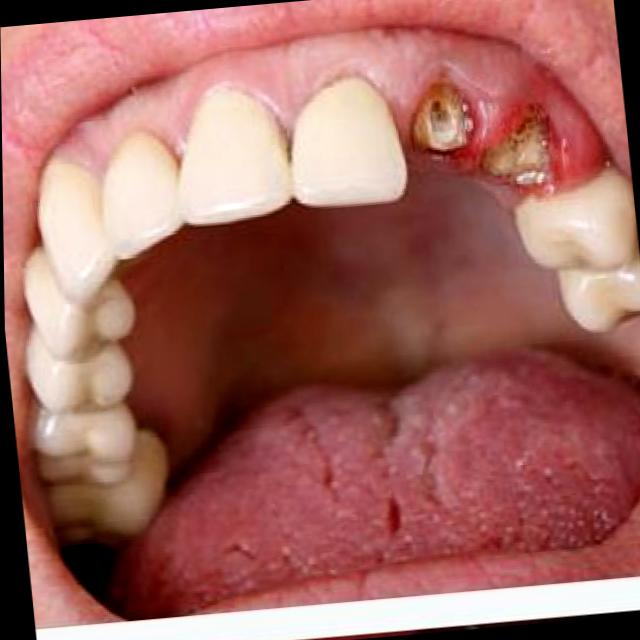cariess: (483, 114, 547, 184), (412, 86, 471, 151)
hypodontia: (261, 27, 609, 208)
